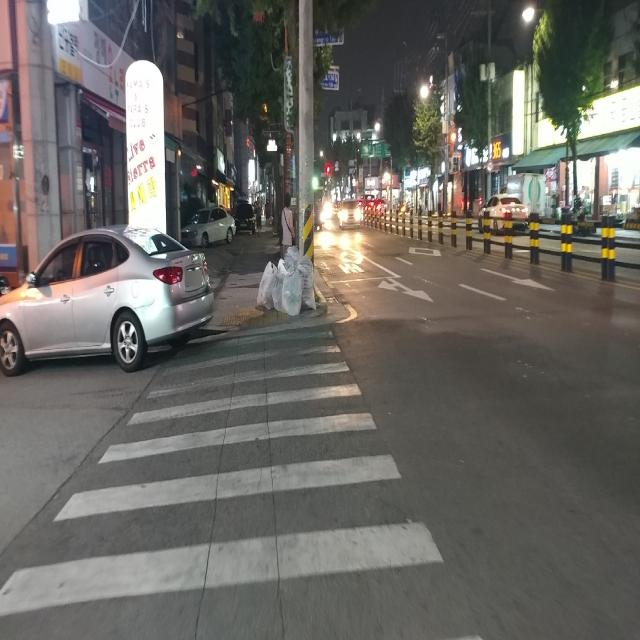횡단보도: (0, 330, 444, 617)
